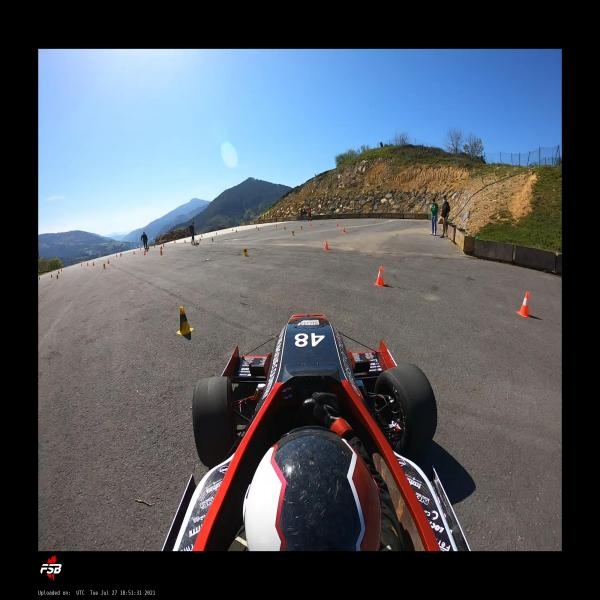orange_cone: (516, 292, 532, 318), (374, 266, 386, 286), (324, 240, 329, 250), (343, 227, 345, 232), (336, 222, 338, 227), (144, 251, 146, 256), (160, 246, 162, 251), (275, 224, 277, 228), (133, 252, 135, 255), (256, 226, 258, 229), (232, 228, 234, 231), (93, 262, 94, 266), (61, 268, 62, 272), (108, 260, 109, 264), (87, 263, 88, 266), (120, 254, 121, 257), (311, 223, 312, 226), (116, 255, 117, 257), (175, 241, 175, 244)
yellow_cone: (176, 306, 195, 336), (243, 246, 248, 256), (291, 229, 295, 236), (300, 225, 303, 230), (160, 251, 163, 256), (103, 264, 106, 268), (212, 238, 214, 242), (284, 226, 286, 230), (51, 275, 53, 278), (154, 246, 156, 248), (57, 276, 58, 279), (58, 271, 59, 274), (236, 230, 237, 233), (39, 278, 40, 280), (184, 241, 186, 242), (200, 238, 201, 240), (258, 228, 259, 230)
